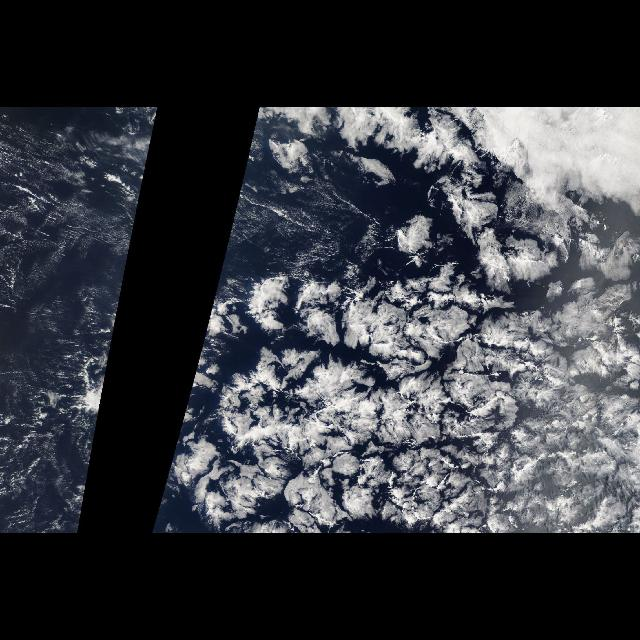Flower: (160, 251, 640, 533)
Sugar: (0, 108, 158, 524), (217, 108, 337, 282)
